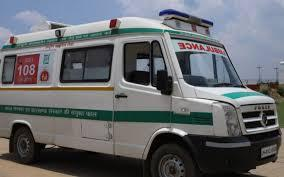ambulance: (4, 7, 254, 116)
